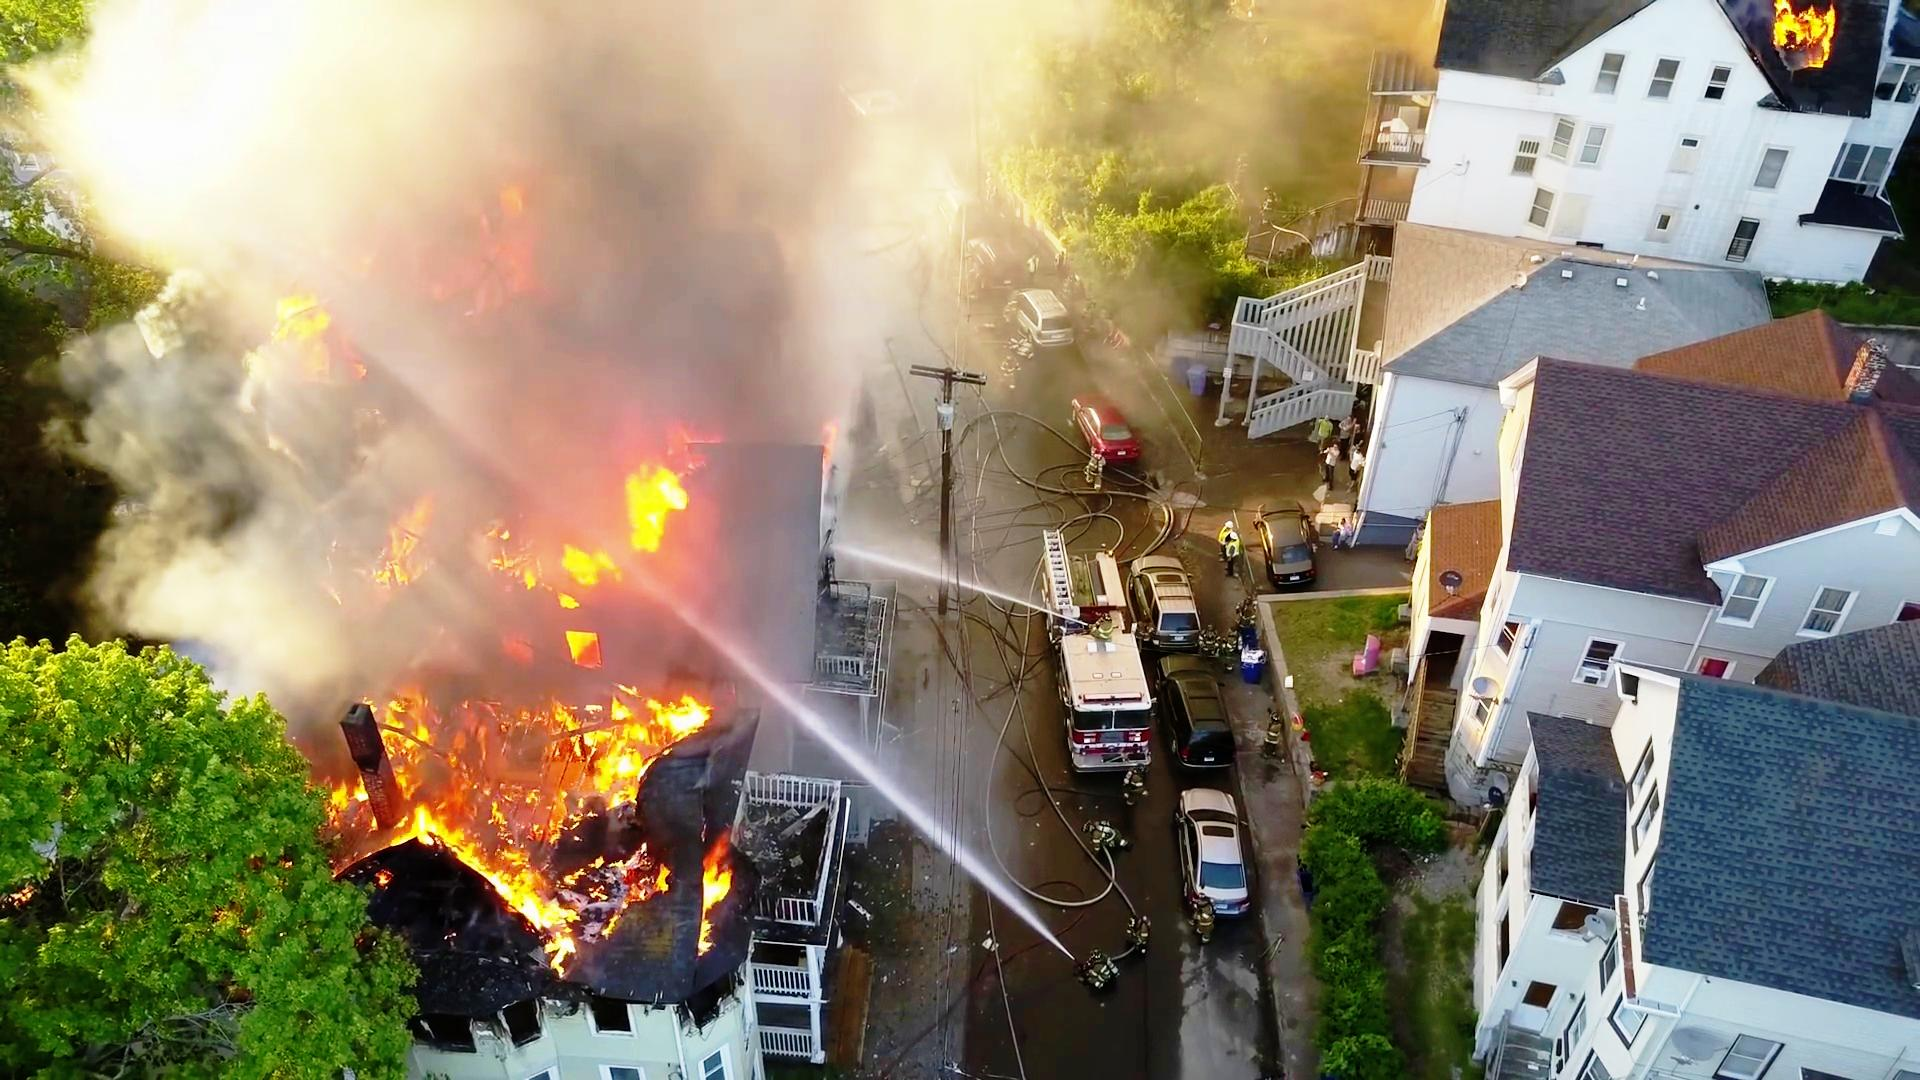fire: (555, 683, 711, 815), (423, 806, 575, 926), (605, 443, 698, 579), (691, 868, 736, 955)
smoke: (496, 22, 887, 386)
